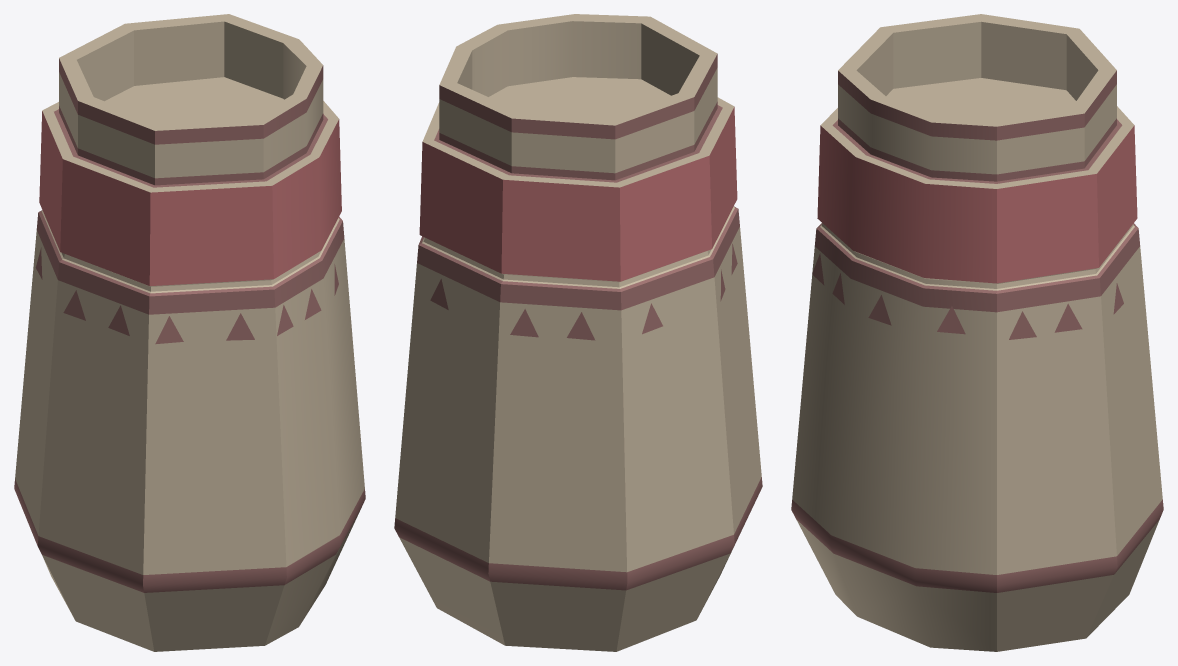
Rendered from SM_Food_Container_01.fbx.
3 renders of one model, left to right at view 1: azimuth 30°, elevation 25°; view 2: azimuth 150°, elevation 25°; view 3: azimuth 270°, elevation 25°, orthographic.
Parts seen in each view (by area): view 1: Food_Container_01; view 2: Food_Container_01; view 3: Food_Container_01.
Boxes of the visible parts, x1,y1,x2,y2 form: Food_Container_01: (14, 14, 365, 651); Food_Container_01: (394, 14, 762, 651); Food_Container_01: (791, 14, 1163, 651).
Bounding box in the file's own units: 42.21 × 67.77 × 43.65.
